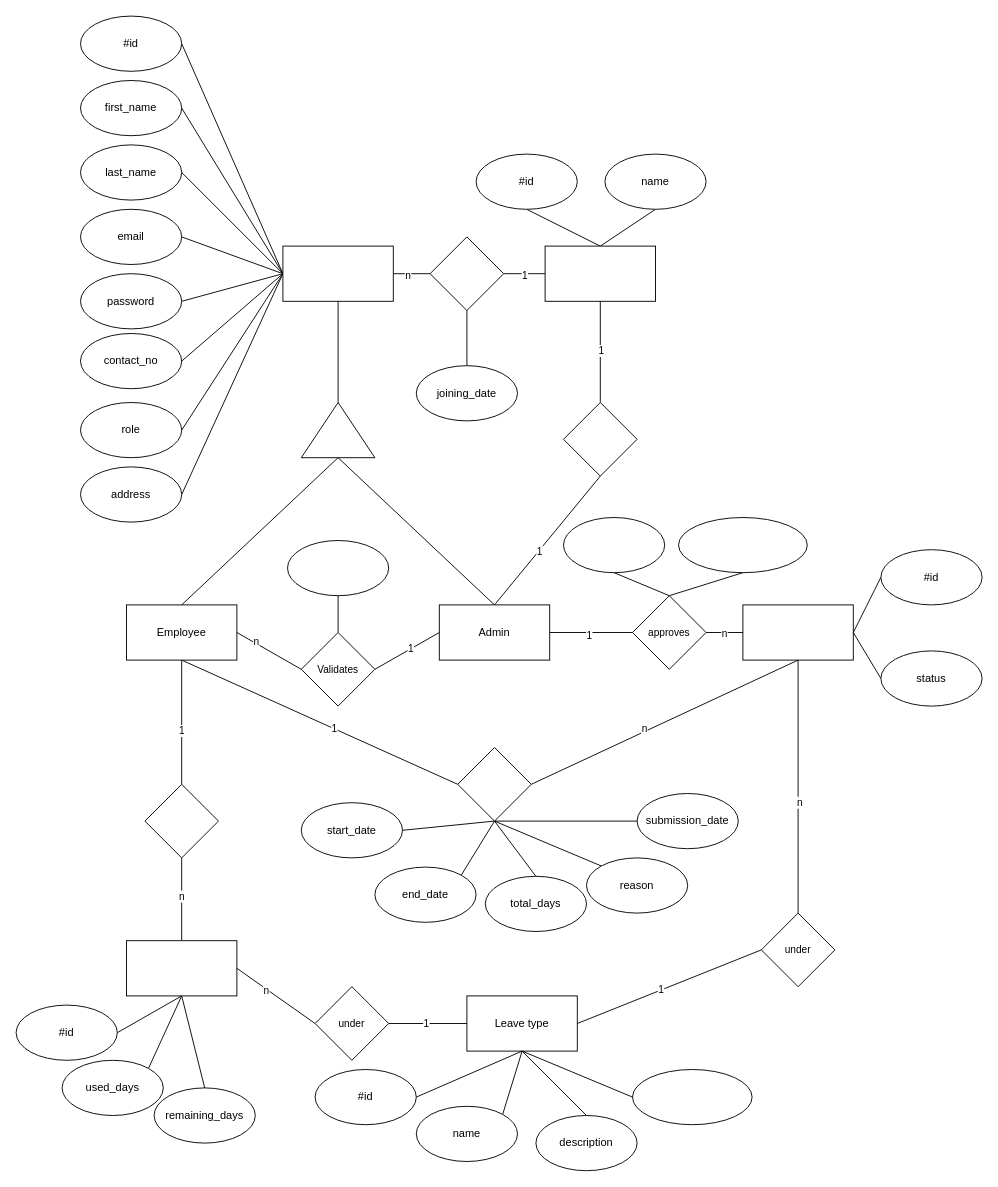
This 998x1187 diagram has some shape labels left out. Each missing label, with the box of its shape:
applies for: (457, 747, 531, 821)
approval_date: (563, 517, 665, 573)
approver_comments: (678, 517, 807, 573)
Department: (544, 245, 656, 301)
has: (144, 783, 218, 858)
is_approved: (287, 540, 389, 596)
ISA: (300, 402, 375, 458)
Leave balance: (126, 940, 237, 996)
Leave request: (742, 604, 853, 660)
Manages: (563, 402, 637, 476)
max_days_per_year: (632, 1069, 752, 1125)
User: (282, 245, 393, 301)
works in: (429, 236, 504, 310)
